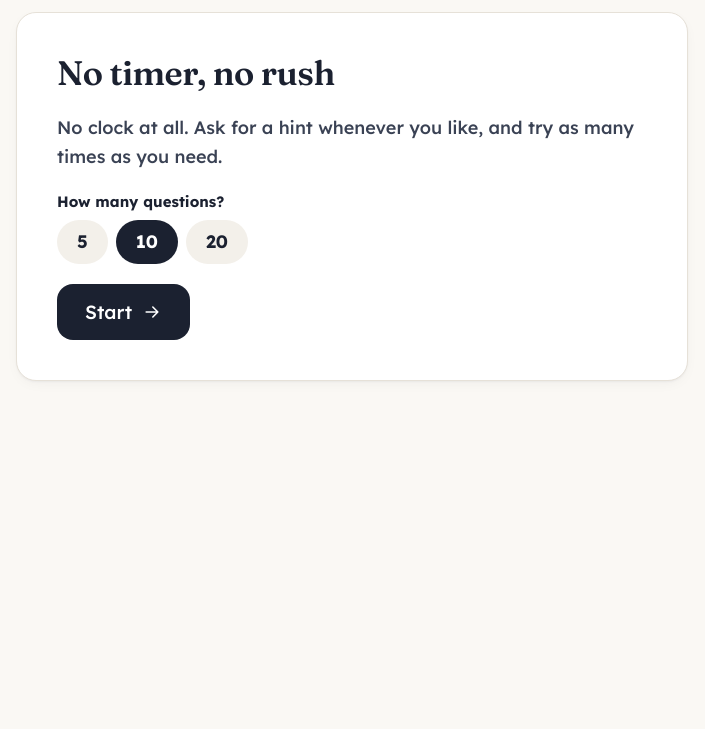
Test: fact modes (TT-009, TT-010) › has no countdown in untimed mode, keeps hints and retries, and lets the child choose the session length
The width and height of the screenshot is (705, 729).
Click the button "5" at (82, 242), box 57,220 -> 108,264
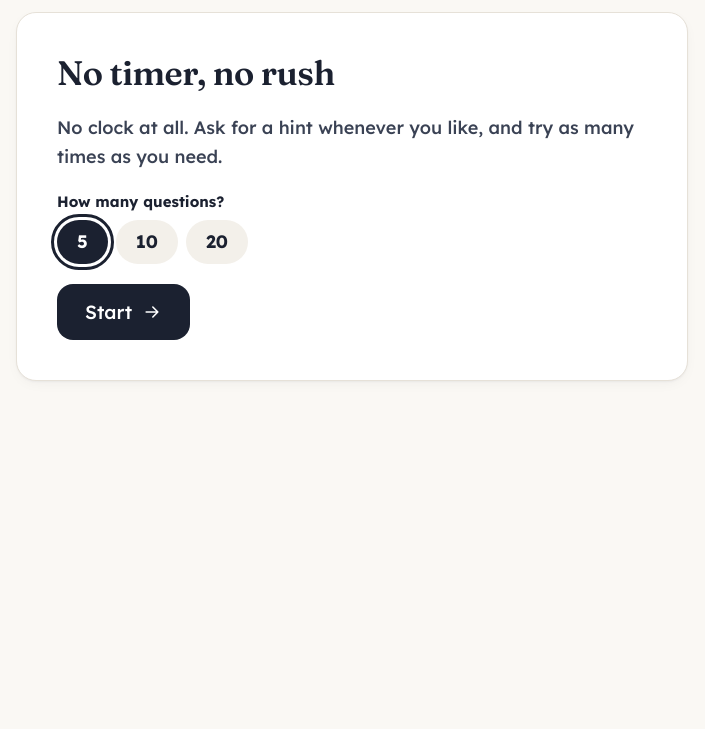
Click the button "Start" at (124, 312), box 57,284 -> 190,340
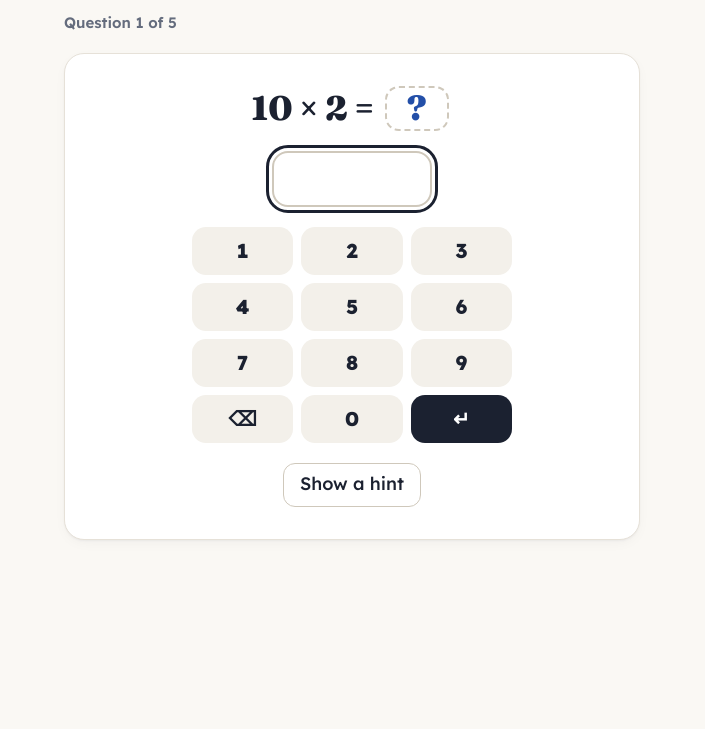
Expected: the text "Question 1 of 5" is shown, 64,12 -> 177,33
Click the button "Show a hint" at (352, 485), box 283,463 -> 421,507
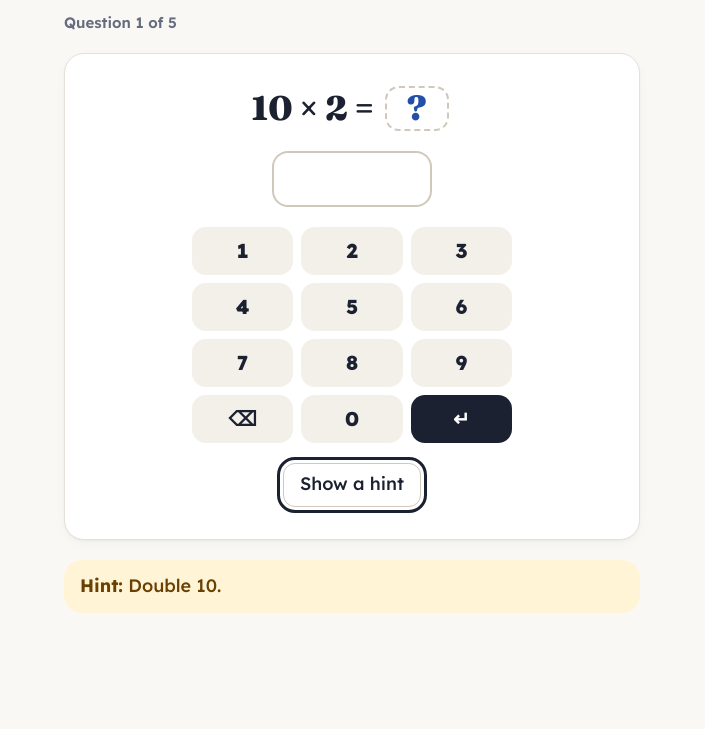
Expected: the text "Hint:" is shown, 80,574 -> 123,597
A wrong answer leaves the question open to try again.
Type "1" into the field named "Your answer" at (352, 179), box 272,151 -> 432,207
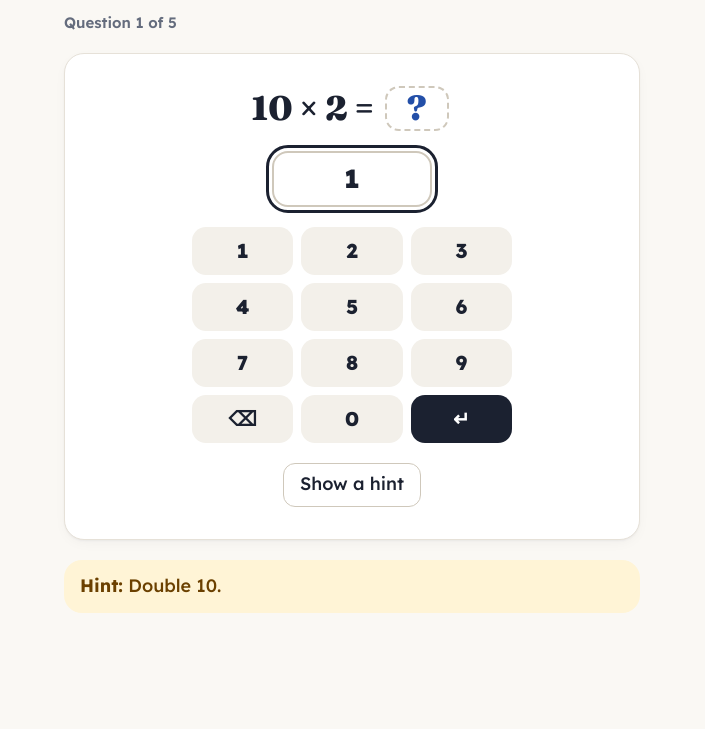
Click the button named "Enter" at (461, 419), box 411,395 -> 512,443
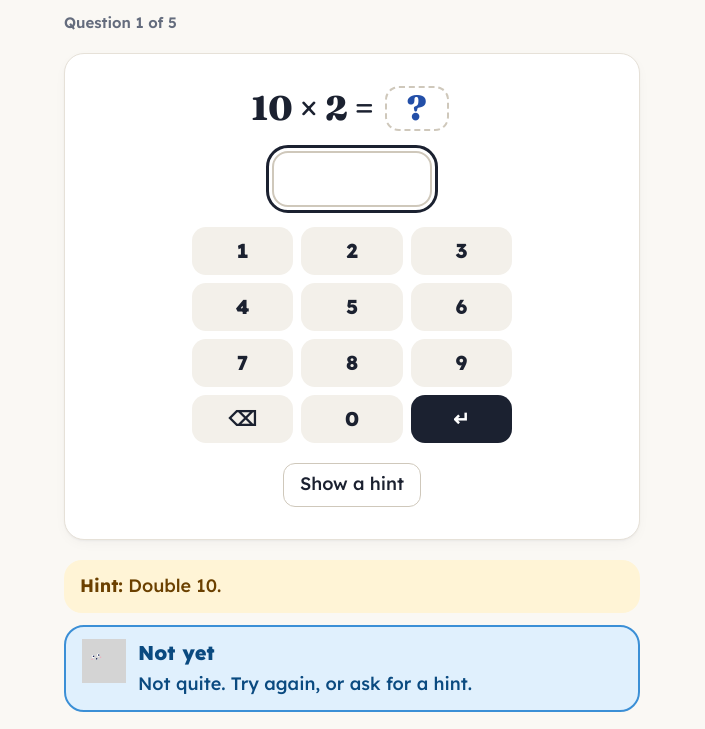
Expected: the text "Question 1 of 5" is shown, 64,12 -> 177,33
Expected: the text "Not yet" is shown, 138,640 -> 214,665
